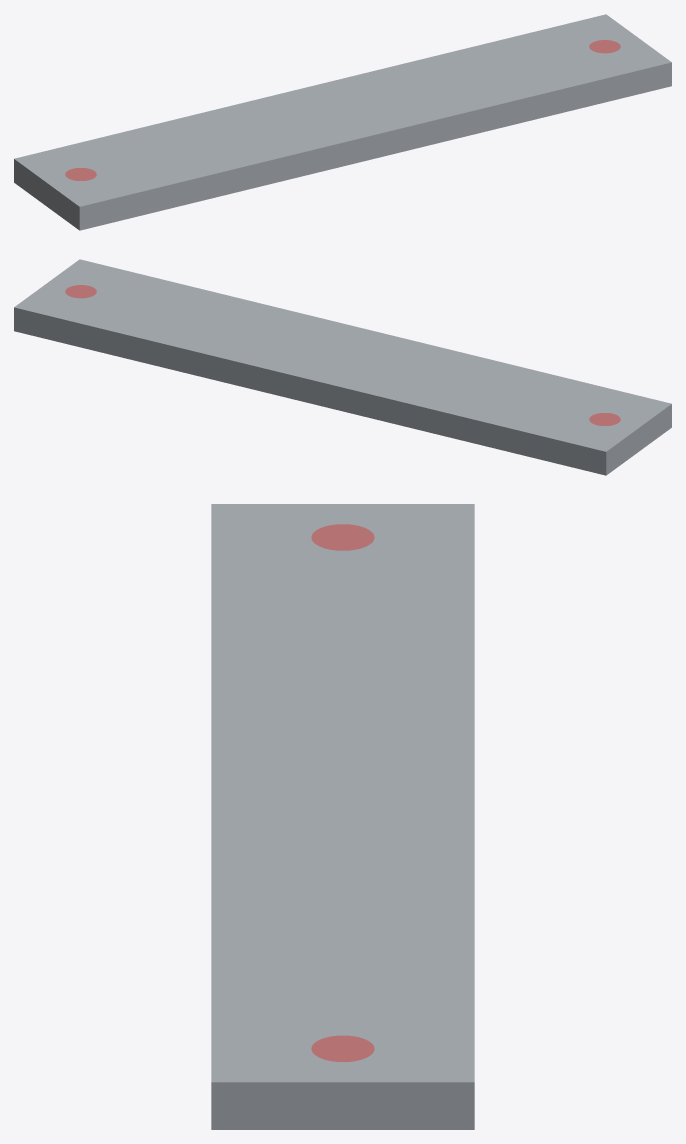
Rendered from step_02.glb.
The picture shows the model from 3 angles, top to bottom: view 1: azimuth 30°, elevation 25°; view 2: azimuth 150°, elevation 25°; view 3: azimuth 270°, elevation 25°; orthographic projection. The views are drawn at different scales.
Visible parts, largest first — view 1: part__Worksheet 13 hanger bracket, removed__Worksheet 13 hanger bracket; view 2: part__Worksheet 13 hanger bracket, removed__Worksheet 13 hanger bracket; view 3: part__Worksheet 13 hanger bracket, removed__Worksheet 13 hanger bracket.
Boxes of the visible parts, box(x1,y1,x2,y2) form: part__Worksheet 13 hanger bracket: box(14, 14, 671, 230); removed__Worksheet 13 hanger bracket: box(65, 40, 620, 180); part__Worksheet 13 hanger bracket: box(14, 259, 671, 475); removed__Worksheet 13 hanger bracket: box(65, 285, 620, 425); part__Worksheet 13 hanger bracket: box(211, 504, 474, 1129); removed__Worksheet 13 hanger bracket: box(311, 524, 374, 1061).
Size of the model in its own units: 130 by 5 by 25.
